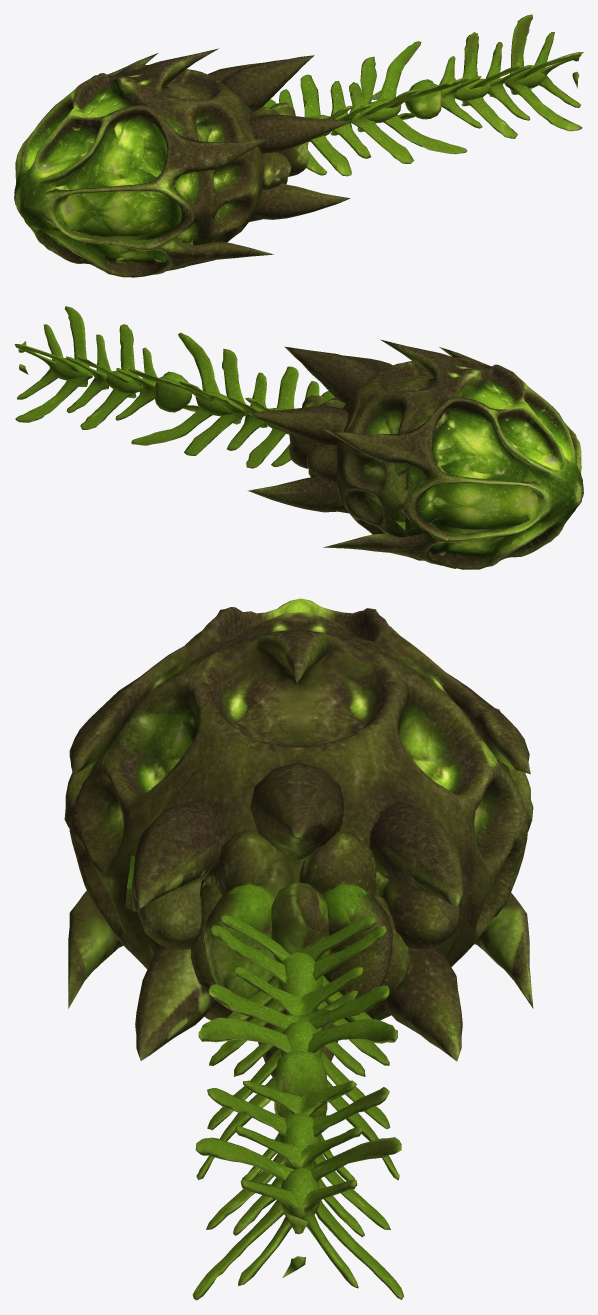
File: MutantBullet_v66.glb
3 renders of one model, top to bottom at view 1: azimuth 30°, elevation 25°; view 2: azimuth 150°, elevation 25°; view 3: azimuth 270°, elevation 25°, orthographic. The views are drawn at different scales.
Bounding box in the file's own units: 1 × 0.3604 × 0.3633.
Materials: 1 (1 with a texture image).
